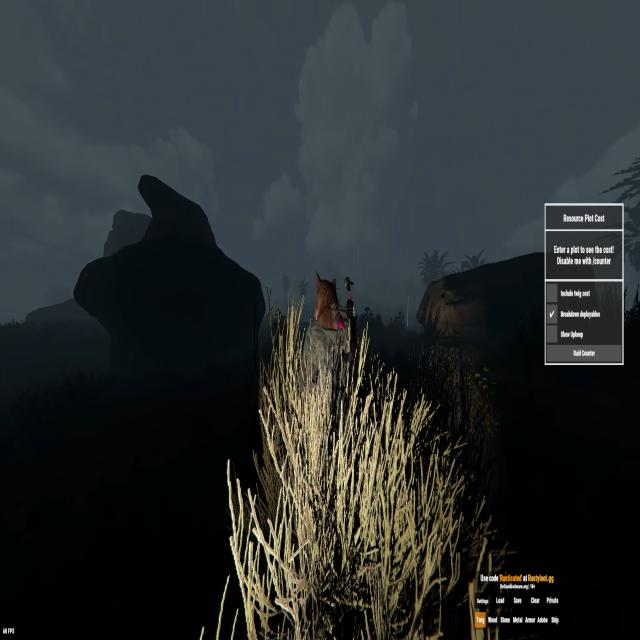Player: (294, 254, 362, 475)
